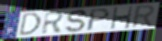D: (18, 12, 43, 37)
H: (110, 5, 134, 30)
P: (85, 8, 112, 32)
R: (130, 4, 157, 30), (41, 10, 66, 35)
S: (65, 9, 88, 33)
